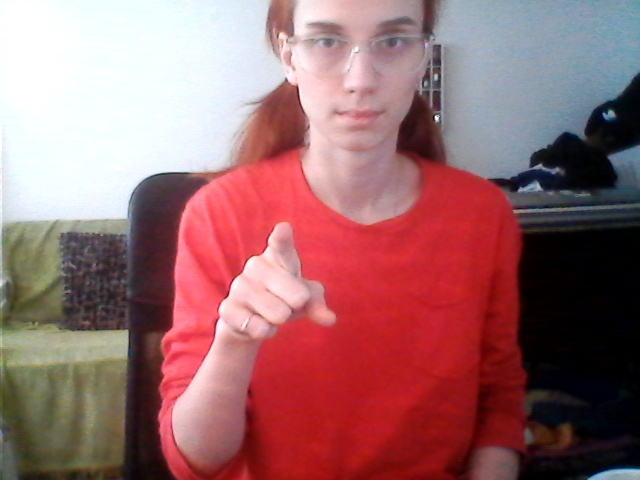ty: (200, 215, 348, 352)
